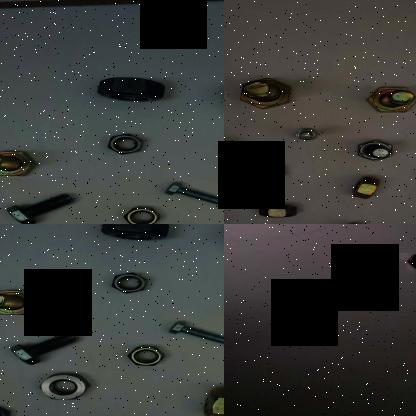Bolts: (224, 69, 310, 112), (0, 326, 77, 366), (0, 190, 78, 224), (354, 77, 416, 116), (166, 178, 224, 212), (167, 318, 224, 348), (0, 144, 47, 178), (0, 286, 51, 316), (354, 136, 396, 162), (290, 124, 327, 140)
NUTS: (90, 72, 170, 104), (36, 368, 94, 405), (102, 267, 152, 297), (93, 224, 173, 241), (256, 192, 301, 222), (105, 130, 150, 158), (235, 160, 289, 182), (121, 344, 169, 368), (116, 202, 163, 224), (348, 172, 384, 200), (326, 215, 372, 224), (403, 249, 416, 271)
